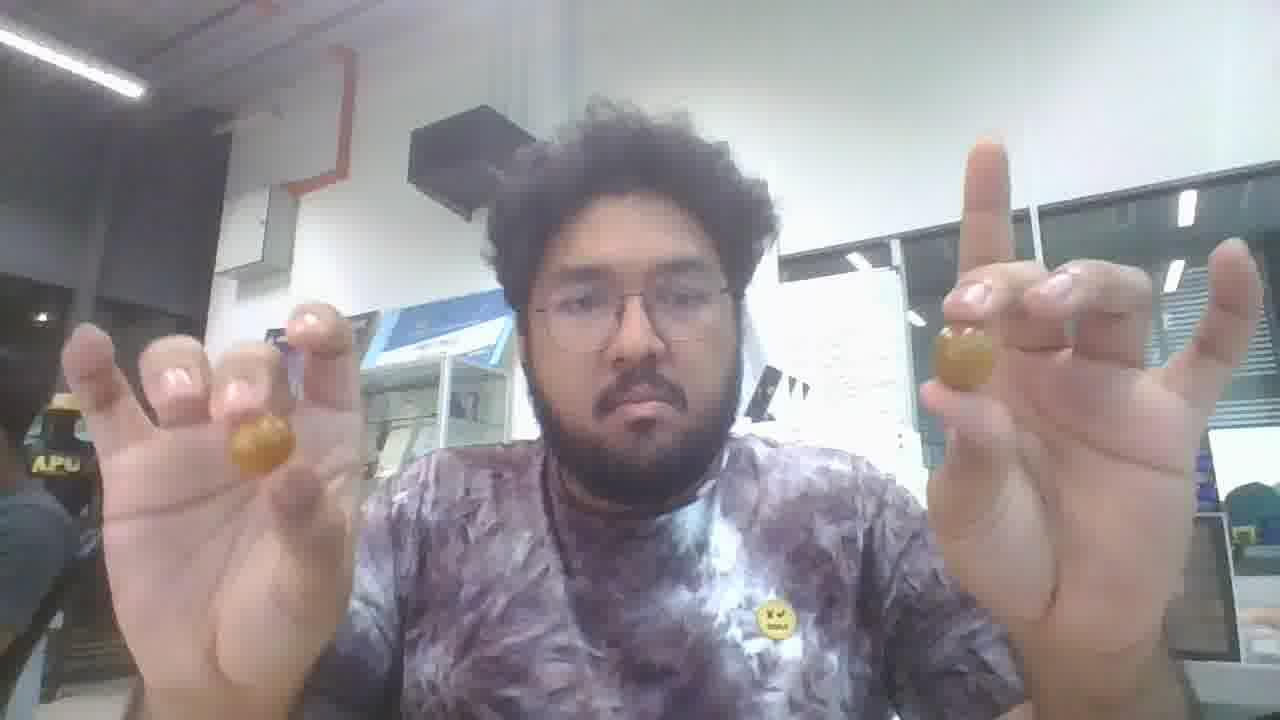yellow_cherry_tomato: (229, 414, 294, 476), (934, 326, 996, 390)
